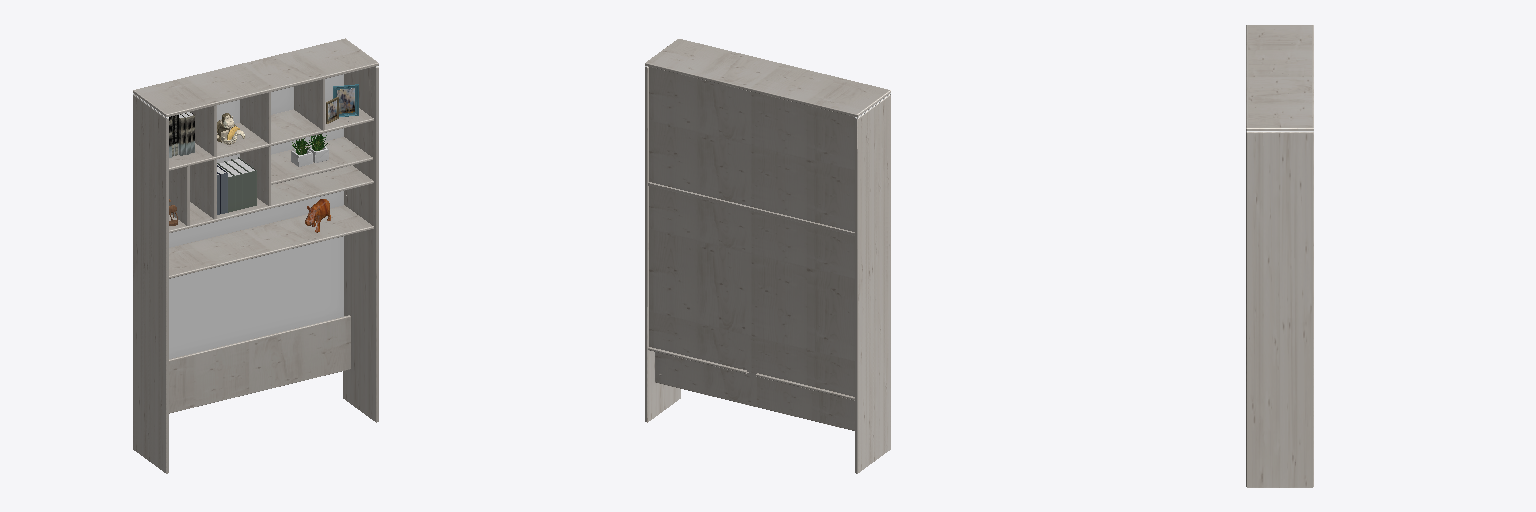
3 renders of one model, left to right at view 1: azimuth 30°, elevation 25°; view 2: azimuth 150°, elevation 25°; view 3: azimuth 270°, elevation 25°, orthographic.
Visible parts, largest first — view 1: solid_019, solid_020, solid_018, solid_002, solid_014; view 2: solid_019; view 3: solid_019.
Boxes of the visible parts, x1=… form: solid_019: x1=133, y1=38, x2=378, y2=473; solid_020: x1=169, y1=74, x2=343, y2=358; solid_018: x1=169, y1=112, x2=194, y2=157; solid_002: x1=228, y1=171, x2=256, y2=212; solid_014: x1=328, y1=88, x2=354, y2=120; solid_019: x1=645, y1=39, x2=890, y2=473; solid_019: x1=1246, y1=25, x2=1313, y2=487.
Size of the model in its own units: 1.26 by 2.02 by 0.345.
Materials: 1 (1 with a texture image).